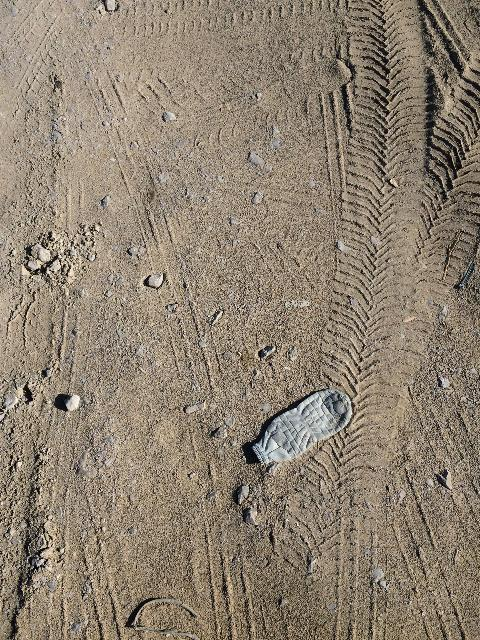plastic: (252, 388, 352, 464)
